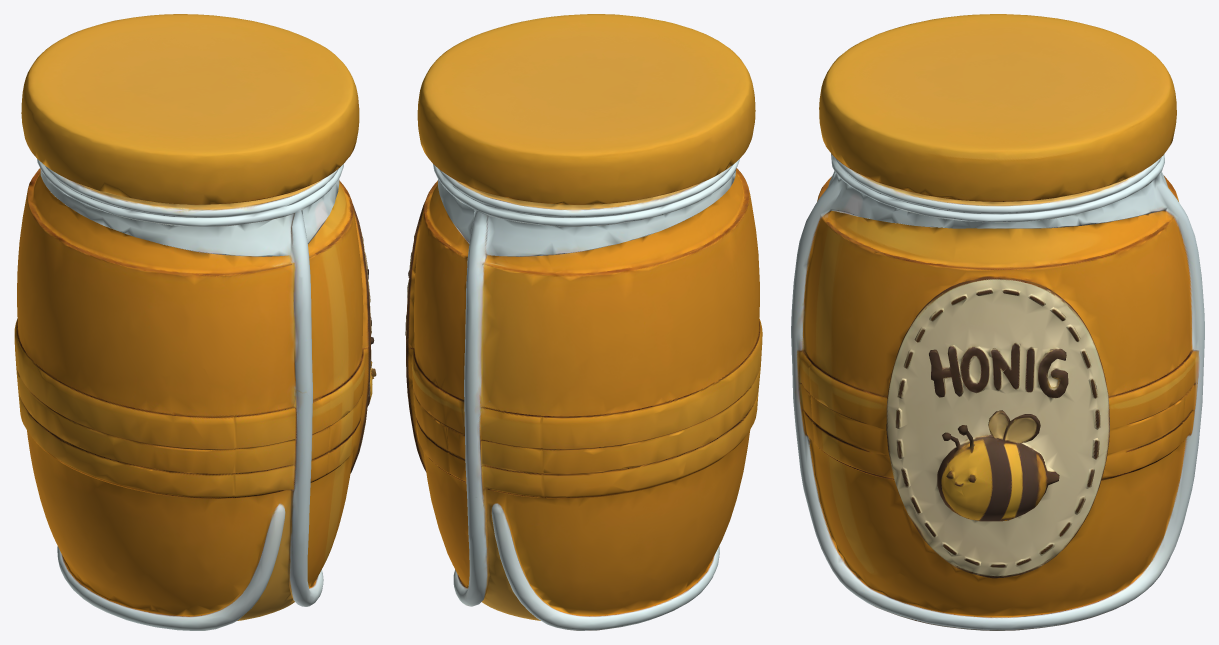
Rendered from honigglas_higgsfield.glb.
3 views of the same model, side by side, from view 1: azimuth 30°, elevation 25°; view 2: azimuth 150°, elevation 25°; view 3: azimuth 270°, elevation 25° (orthographic).
Parts seen in each view (by area): view 1: tripo_node_bcd8106f-b3e7-474a-990f-e4da9d25f2b7; view 2: tripo_node_bcd8106f-b3e7-474a-990f-e4da9d25f2b7; view 3: tripo_node_bcd8106f-b3e7-474a-990f-e4da9d25f2b7.
Part boxes in pixels (x1,y1,x2,y2): tripo_node_bcd8106f-b3e7-474a-990f-e4da9d25f2b7: [14, 14, 376, 630]; tripo_node_bcd8106f-b3e7-474a-990f-e4da9d25f2b7: [405, 14, 762, 630]; tripo_node_bcd8106f-b3e7-474a-990f-e4da9d25f2b7: [791, 14, 1204, 630].
Bounding box in the file's own units: 0.6668 × 1 × 0.7508.
1 material, 1 textured.
